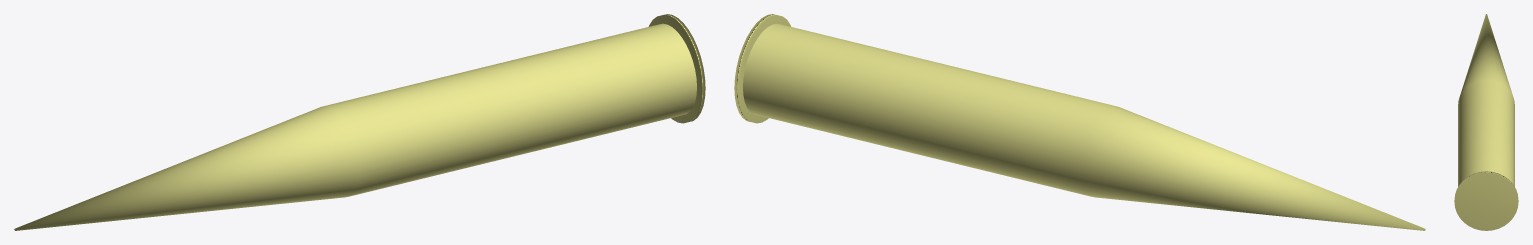
The model's file is torpedo.fbx.
3 views of the same model, side by side, from view 1: azimuth 30°, elevation 25°; view 2: azimuth 150°, elevation 25°; view 3: azimuth 270°, elevation 25° (orthographic). The views are drawn at different scales.
Parts seen in each view (by area): view 1: Cylinder.001; view 2: Cylinder.001; view 3: Cylinder.001.
Part boxes in pixels (x1=…): Cylinder.001: x1=14, y1=14, x2=705, y2=230; Cylinder.001: x1=734, y1=14, x2=1425, y2=230; Cylinder.001: x1=1454, y1=14, x2=1518, y2=230.
Bounding box in the file's own units: 1383 × 200 × 200.
